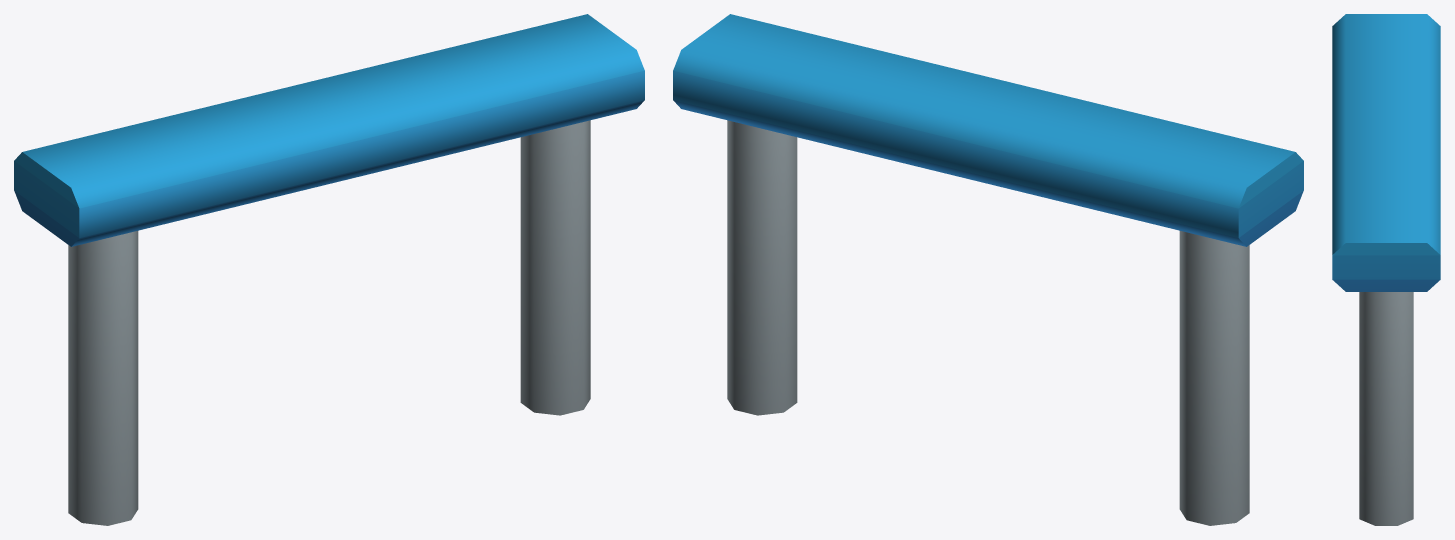
The model's file is railing_straight_single_blue.glb.
The picture shows the model from 3 angles, left to right: view 1: azimuth 30°, elevation 25°; view 2: azimuth 150°, elevation 25°; view 3: azimuth 270°, elevation 25°; orthographic projection. The views are drawn at different scales.
Visible parts, largest first — view 1: railing_straight_single_blue; view 2: railing_straight_single_blue; view 3: railing_straight_single_blue.
Part boxes in pixels (bbox=[...]): railing_straight_single_blue: bbox=[14, 14, 644, 525]; railing_straight_single_blue: bbox=[673, 14, 1303, 525]; railing_straight_single_blue: bbox=[1332, 14, 1440, 525].
Size of the model in its own units: 2 by 1.2 by 0.4.
Materials: 1 (1 with a texture image).
